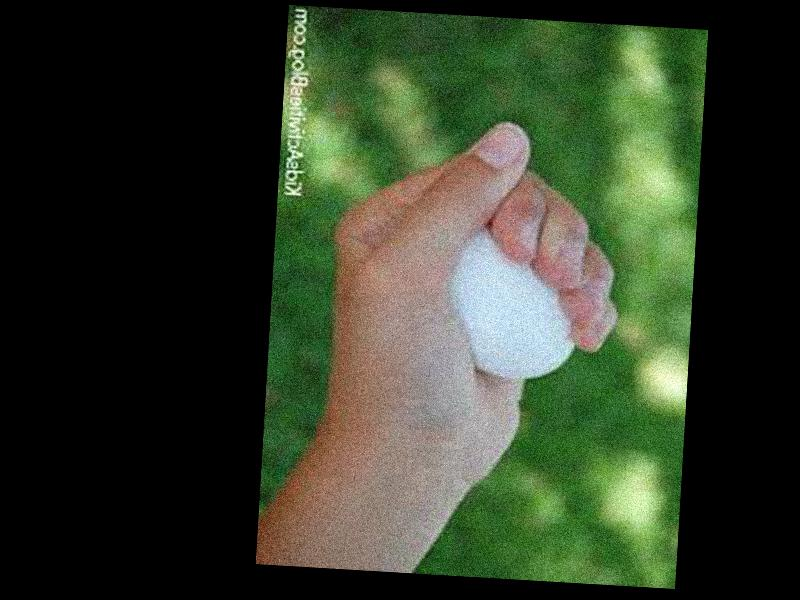Eggs: (452, 225, 580, 382)
